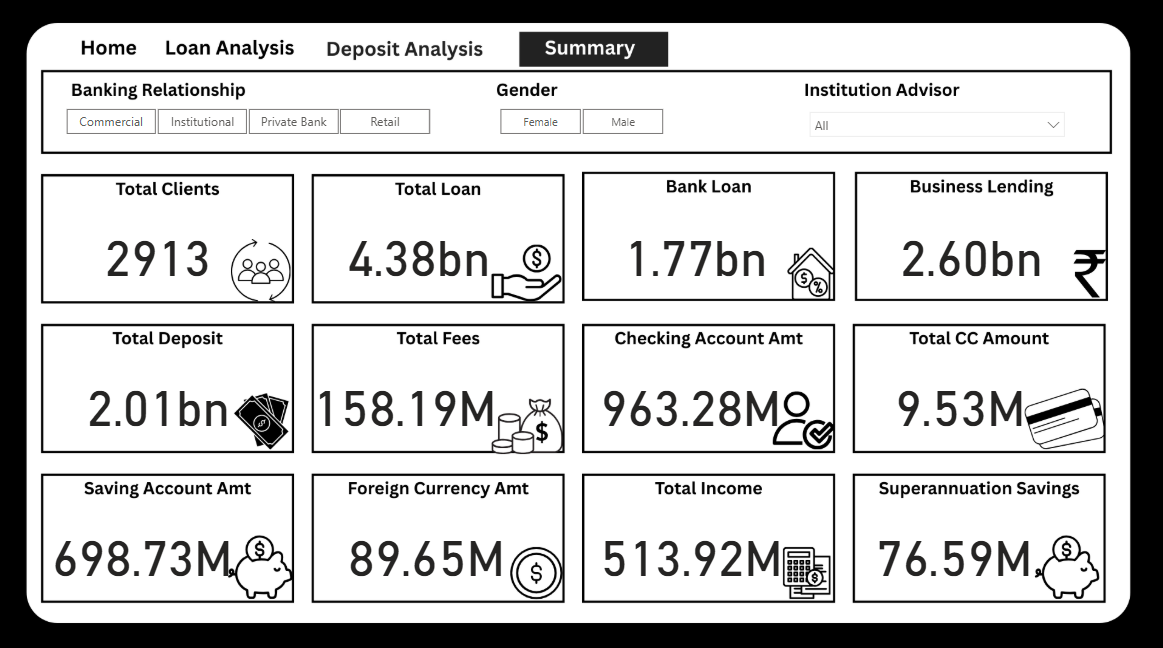

The dashboard page shown, as its layout file describes it:
{"tool":"powerbi","page":{"name":"Summary","canvas":[1280,720],"ordinal":3},"visuals":[{"type":"card","fields":{"Values":["Count(Banking_Clients.Name)"]},"box":[48,227.8,252.5,109.8],"z":0},{"type":"card","fields":{"Values":["Banking_Clients.Total Loan"]},"box":[347.2,227.8,227.8,109.8],"z":1000},{"type":"card","fields":{"Values":["Sum(Banking_Clients.Bank Loans)"]},"box":[650.4,227.8,229.2,109.8],"z":2000},{"type":"card","fields":{"Values":["Sum(Banking_Clients.Business Lending)"]},"box":[955.1,227.8,225,109.8],"z":3000},{"type":"card","fields":{"Values":["Sum(Banking_Clients.Bank Deposits)"]},"box":[64.5,392.5,220.9,109.8],"z":4000},{"type":"card","fields":{"Values":["Banking_Clients.Total Fees"]},"box":[337.6,392.5,215.4,109.8],"z":5000},{"type":"card","fields":{"Values":["Sum(Banking_Clients.Checking Accounts)"]},"box":[639.5,392.5,240.1,109.8],"z":6000},{"type":"card","fields":{"Values":["Sum(Banking_Clients.Credit Card Balance)"]},"box":[955.1,392.5,200.3,109.8],"z":7000},{"type":"card","fields":{"Values":["Sum(Banking_Clients.Saving Accounts)"]},"box":[48,561.2,218.2,101.5],"z":8000},{"type":"card","fields":{"Values":["Sum(Banking_Clients.Foreign Currency Account)"]},"box":[347.2,561.2,244.3,101.5],"z":9000},{"type":"card","fields":{"Values":["Sum(Banking_Clients.Superannuation Savings)"]},"box":[941.3,561.2,214.1,101.5],"z":10000},{"type":"card","fields":{"Values":["Sum(Banking_Clients.Estimated Income)"]},"box":[639.5,561.2,240.1,101.5],"z":11000},{"type":"actionButton","box":[64.5,39.8,100.2,39.8],"z":12000},{"type":"actionButton","box":[174.3,38.4,163.3,39.8],"z":13000},{"type":"actionButton","box":[347.2,39.8,190.7,39.8],"z":14000},{"type":"slicer","fields":{"Values":["Banking_Clients.BRId"]},"box":[48,118,448.7,41.2],"z":15000},{"type":"slicer","fields":{"Values":["Banking_Clients.GenderId"]},"box":[524.2,118,229.2,41.2],"z":16000},{"type":"slicer","fields":{"Values":["Banking_Clients.IAId"]},"box":[879.6,118,300.5,41.2],"z":17000}]}

Visuals, with their boxes in screenshot pixels (x1, y1, x2, y2), scaled from the page's 1280x720 canvas onto the 1163x648 screenshot:
card - Count(Banking_Clients.Name): (44,205,273,304)
card - Banking_Clients.Total Loan: (315,205,522,304)
card - Sum(Banking_Clients.Bank Loans): (591,205,799,304)
card - Sum(Banking_Clients.Business Lending): (868,205,1072,304)
card - Sum(Banking_Clients.Bank Deposits): (59,353,259,452)
card - Banking_Clients.Total Fees: (307,353,502,452)
card - Sum(Banking_Clients.Checking Accounts): (581,353,799,452)
card - Sum(Banking_Clients.Credit Card Balance): (868,353,1050,452)
card - Sum(Banking_Clients.Saving Accounts): (44,505,242,596)
card - Sum(Banking_Clients.Foreign Currency Account): (315,505,537,596)
card - Sum(Banking_Clients.Superannuation Savings): (855,505,1050,596)
card - Sum(Banking_Clients.Estimated Income): (581,505,799,596)
actionButton: (59,36,150,72)
actionButton: (158,35,307,70)
actionButton: (315,36,489,72)
slicer - Banking_Clients.BRId: (44,106,451,143)
slicer - Banking_Clients.GenderId: (476,106,685,143)
slicer - Banking_Clients.IAId: (799,106,1072,143)
